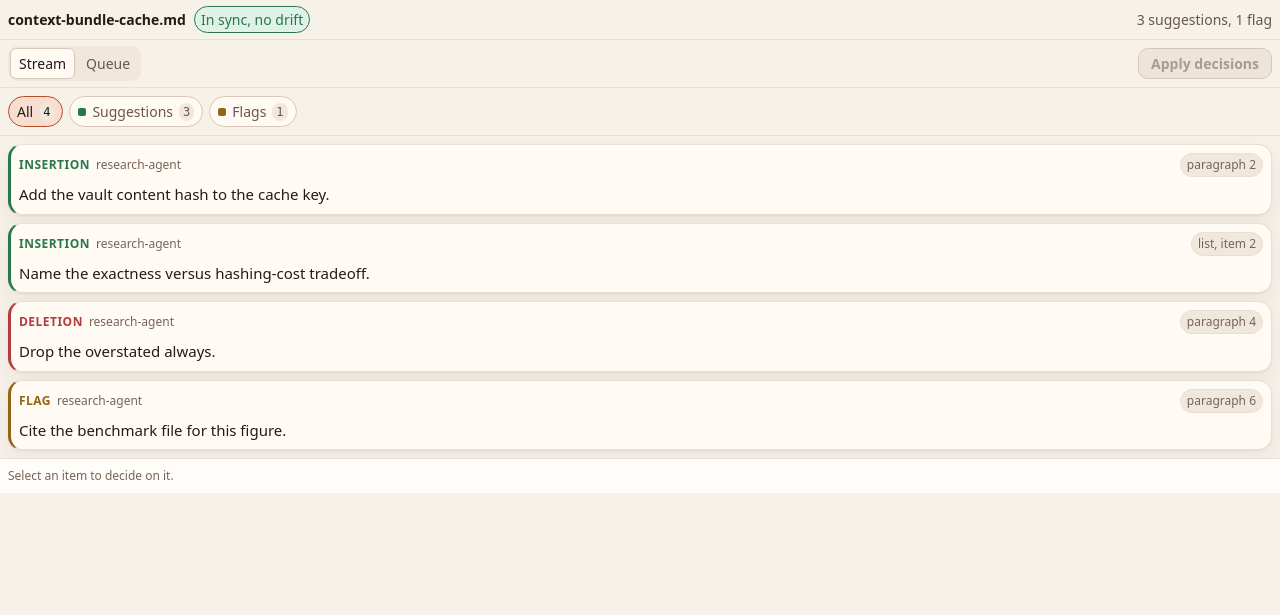
Test: ReviewPanel › filters the stream with the lens
Expected: the text "Add the vault content hash to the cache key." is shown, [19,184,330,204]
Click the button "Add the vault content hash to the cache key." at (174, 194), box [19,183,1263,206]
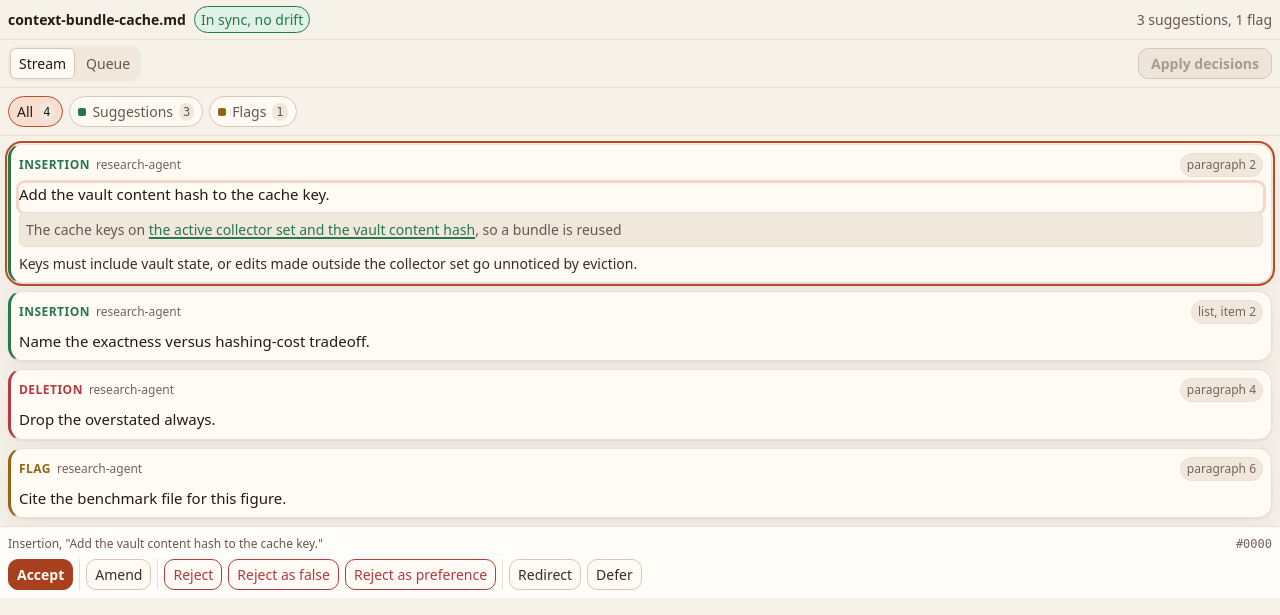
Now the button "Accept" is shown, box [8,559,73,590]
Click the button "Flags 1" at (253, 112), box [209,96,297,127]
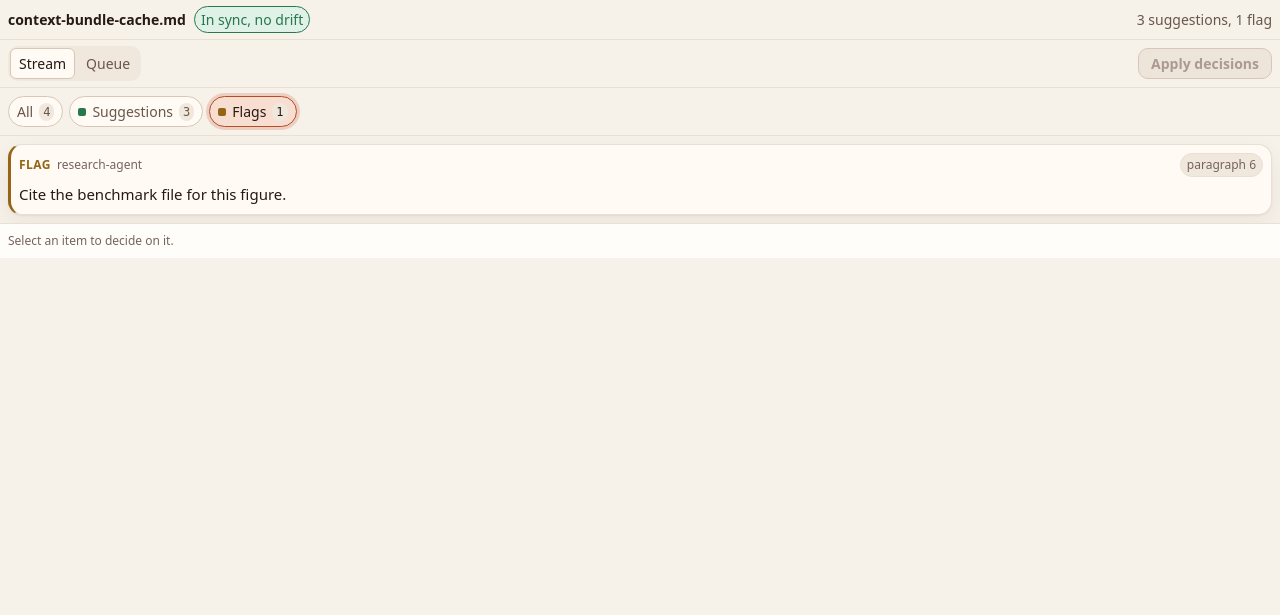
Now the button "Add the vault content hash to the cache key." is gone
Now the button "Accept" is gone
Now the text "Select an item to decide on it." is shown, box [0,222,1279,258]
